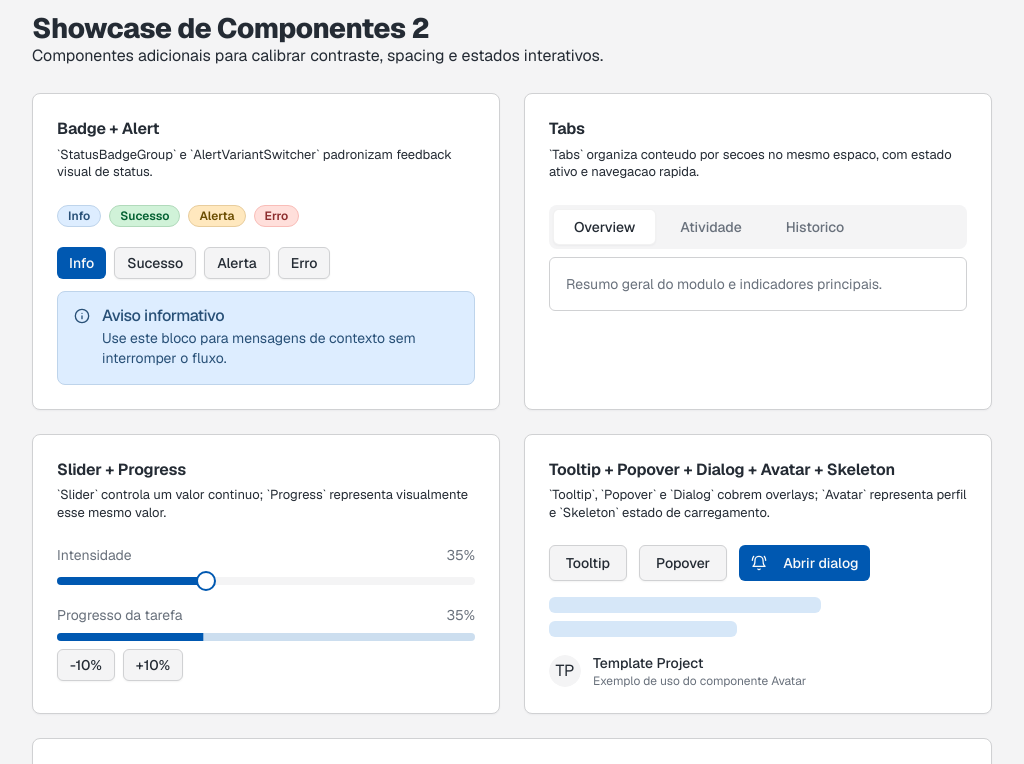
ComponentsShowcaseTwo behaviors › updates slider/progress value with step buttons
Expected: the text "35%" in the row of "Intensidade" is shown, [446,545,475,565]
Click the button "+10%". click: [153, 665]
box: [123,649,183,681]
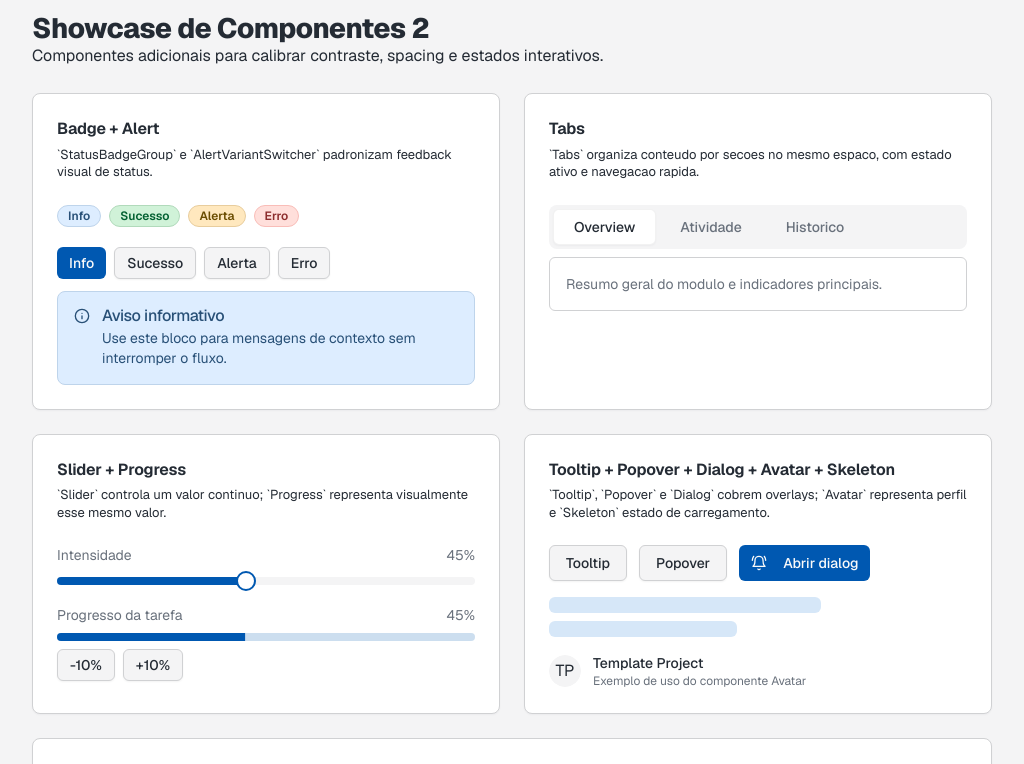
Result: the text "45%" in the row of "Intensidade" is shown at [446,545,475,565]
Click the button "-10%". click: [86, 665]
box: [57,649,115,681]
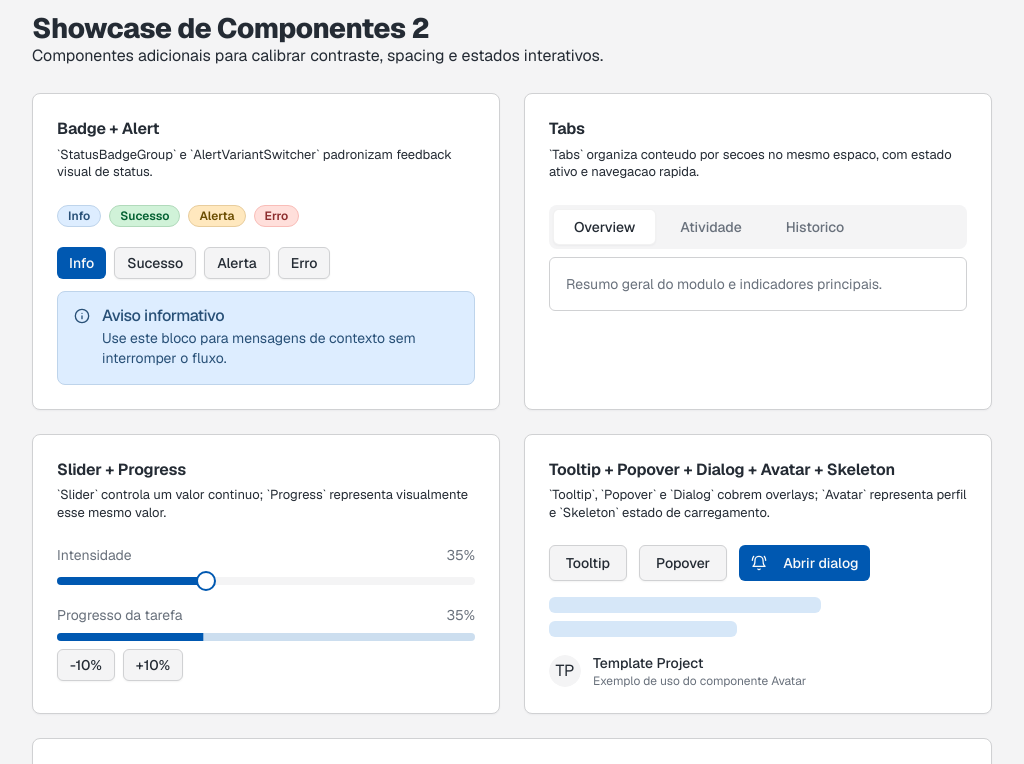
Result: the text "35%" in the row of "Intensidade" is shown at [446,545,475,565]
